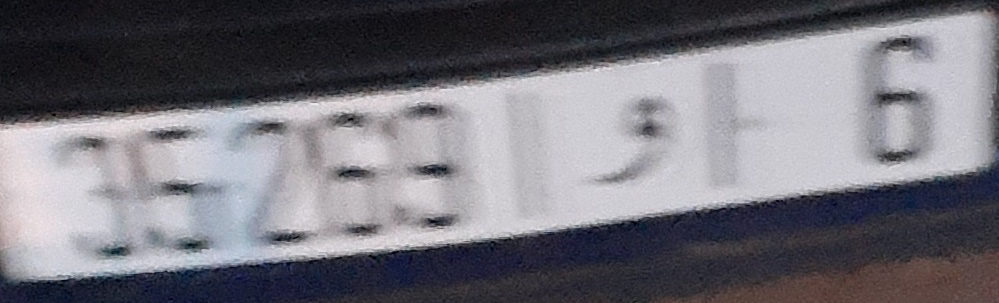2: (225, 116, 318, 249)
3: (49, 138, 137, 258)
5: (127, 129, 217, 255)
6: (858, 31, 942, 166), (306, 109, 391, 239)
9: (393, 104, 467, 229)
waw: (576, 88, 682, 192)
